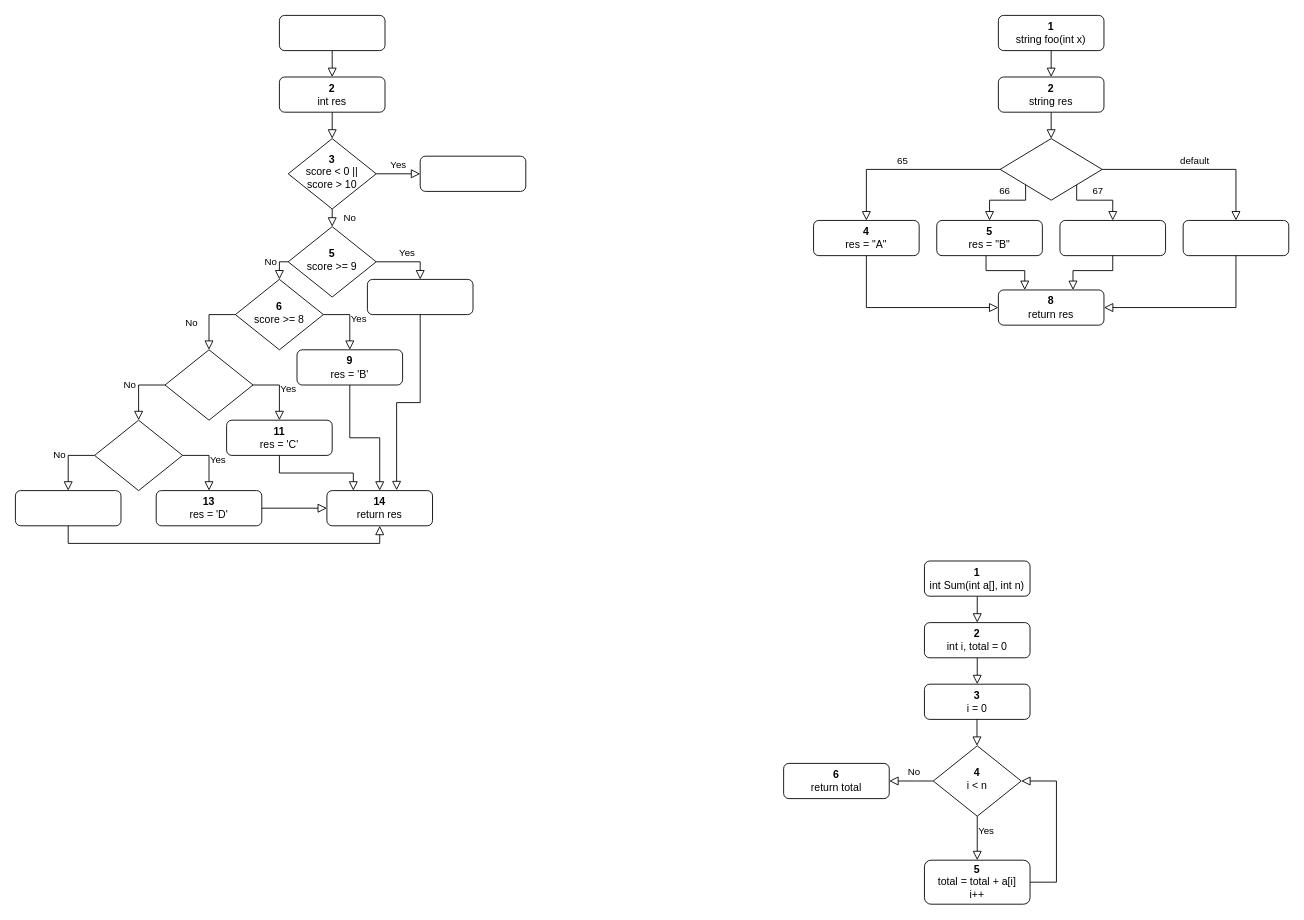
The diagram is 1304 pixels wide and 920 high, and some of its shapes have lost their labels. Each missing label, with the centre of its shape:
1 Grade(int score): (x=332, y=33)
10 score >= 5: (x=138, y=455)
12 res = 'F': (x=68, y=508)
3 switch(x): (x=1050, y=169)
4 return 'I': (x=472, y=173)
6 res = "C": (x=1112, y=238)
7 res = "haven't check": (x=1235, y=238)
7 res = 'A': (x=420, y=297)
8 score >= 6.5: (x=208, y=384)
